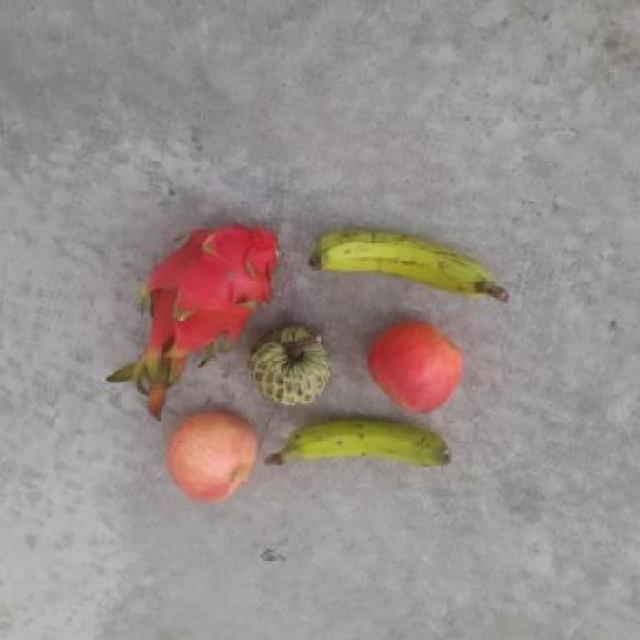apple: (365, 317, 466, 418), (162, 408, 260, 506)
banana: (305, 222, 497, 306), (276, 409, 456, 476)
dragon fruit: (134, 218, 286, 351)
sugar apple: (242, 324, 332, 411)
